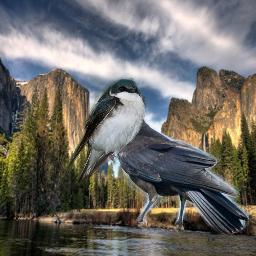Crow: (88, 106, 249, 234)
Swallow: (65, 75, 148, 185)
